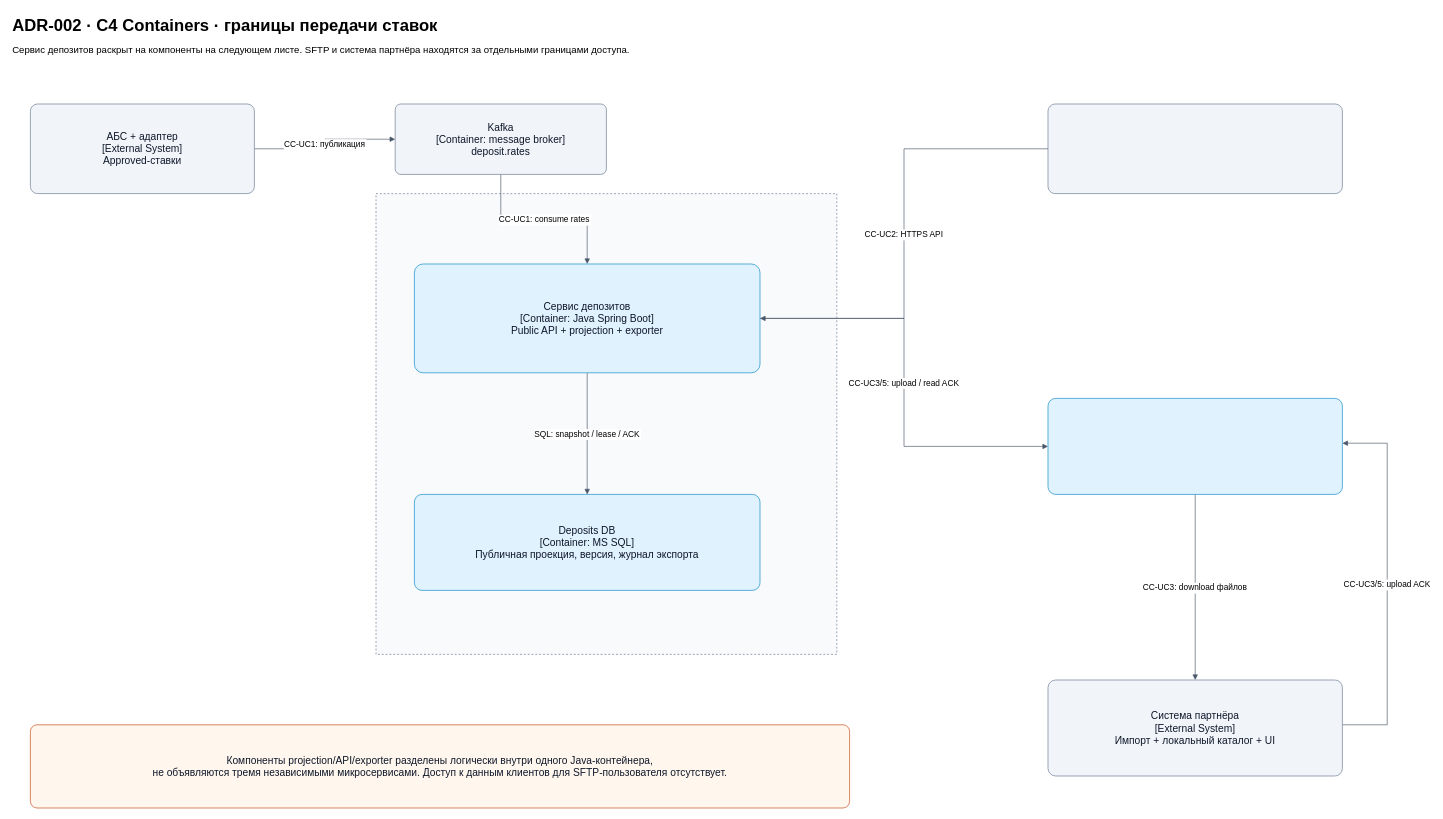
Image size: 1443x819. Some labels were removed from this diagram. Each missing label, with the box of its shape:
SFTP-server [Container: SSH/SFTP] Публикации / ACK, DMZ: (1047, 398, 1342, 494)
Депозитное расширение интернет-банка [Software System]: (375, 193, 837, 654)
Система кол-центра [External System] Backend + экран ставок: (1047, 103, 1342, 194)
